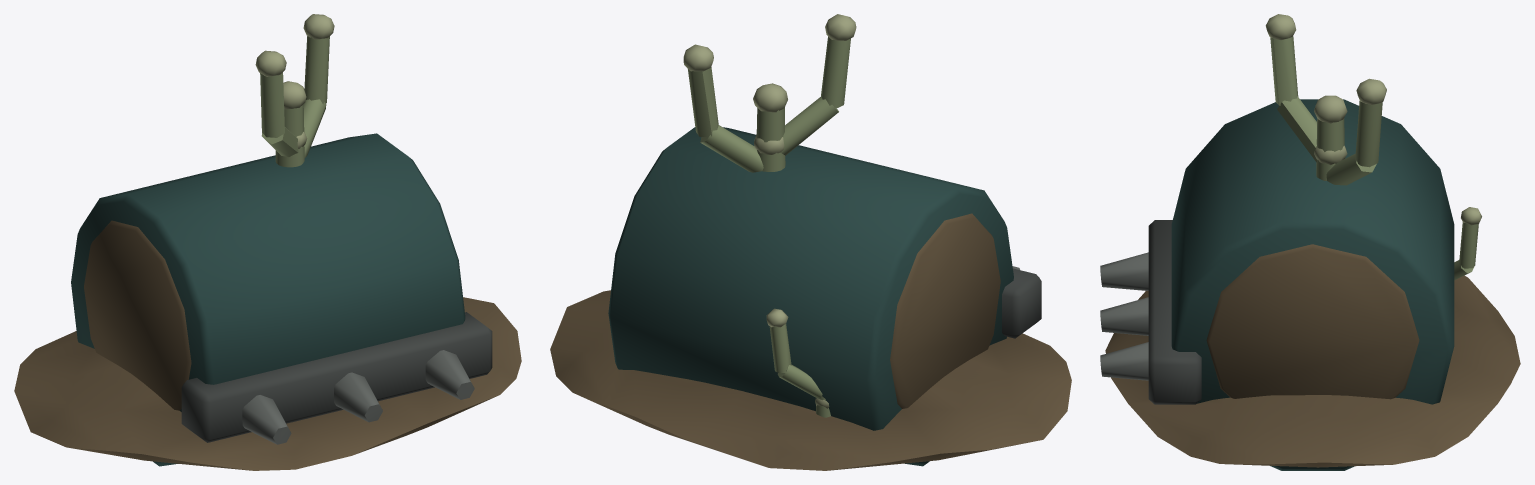
File: rock_bucket_a_lod1.glb
The picture shows the model from 3 angles, left to right: view 1: azimuth 30°, elevation 25°; view 2: azimuth 150°, elevation 25°; view 3: azimuth 270°, elevation 25°; orthographic projection. The views are drawn at different scales.
Visible parts, largest first — view 1: Surface.001; view 2: Surface.001; view 3: Surface.001.
Part boxes in pixels (box(x1,y1,x2,y2)): Surface.001: box(14, 14, 521, 470); Surface.001: box(550, 14, 1071, 470); Surface.001: box(1100, 14, 1520, 470).
Bounding box in the file's own units: 3.03 × 2.42 × 2.38.
